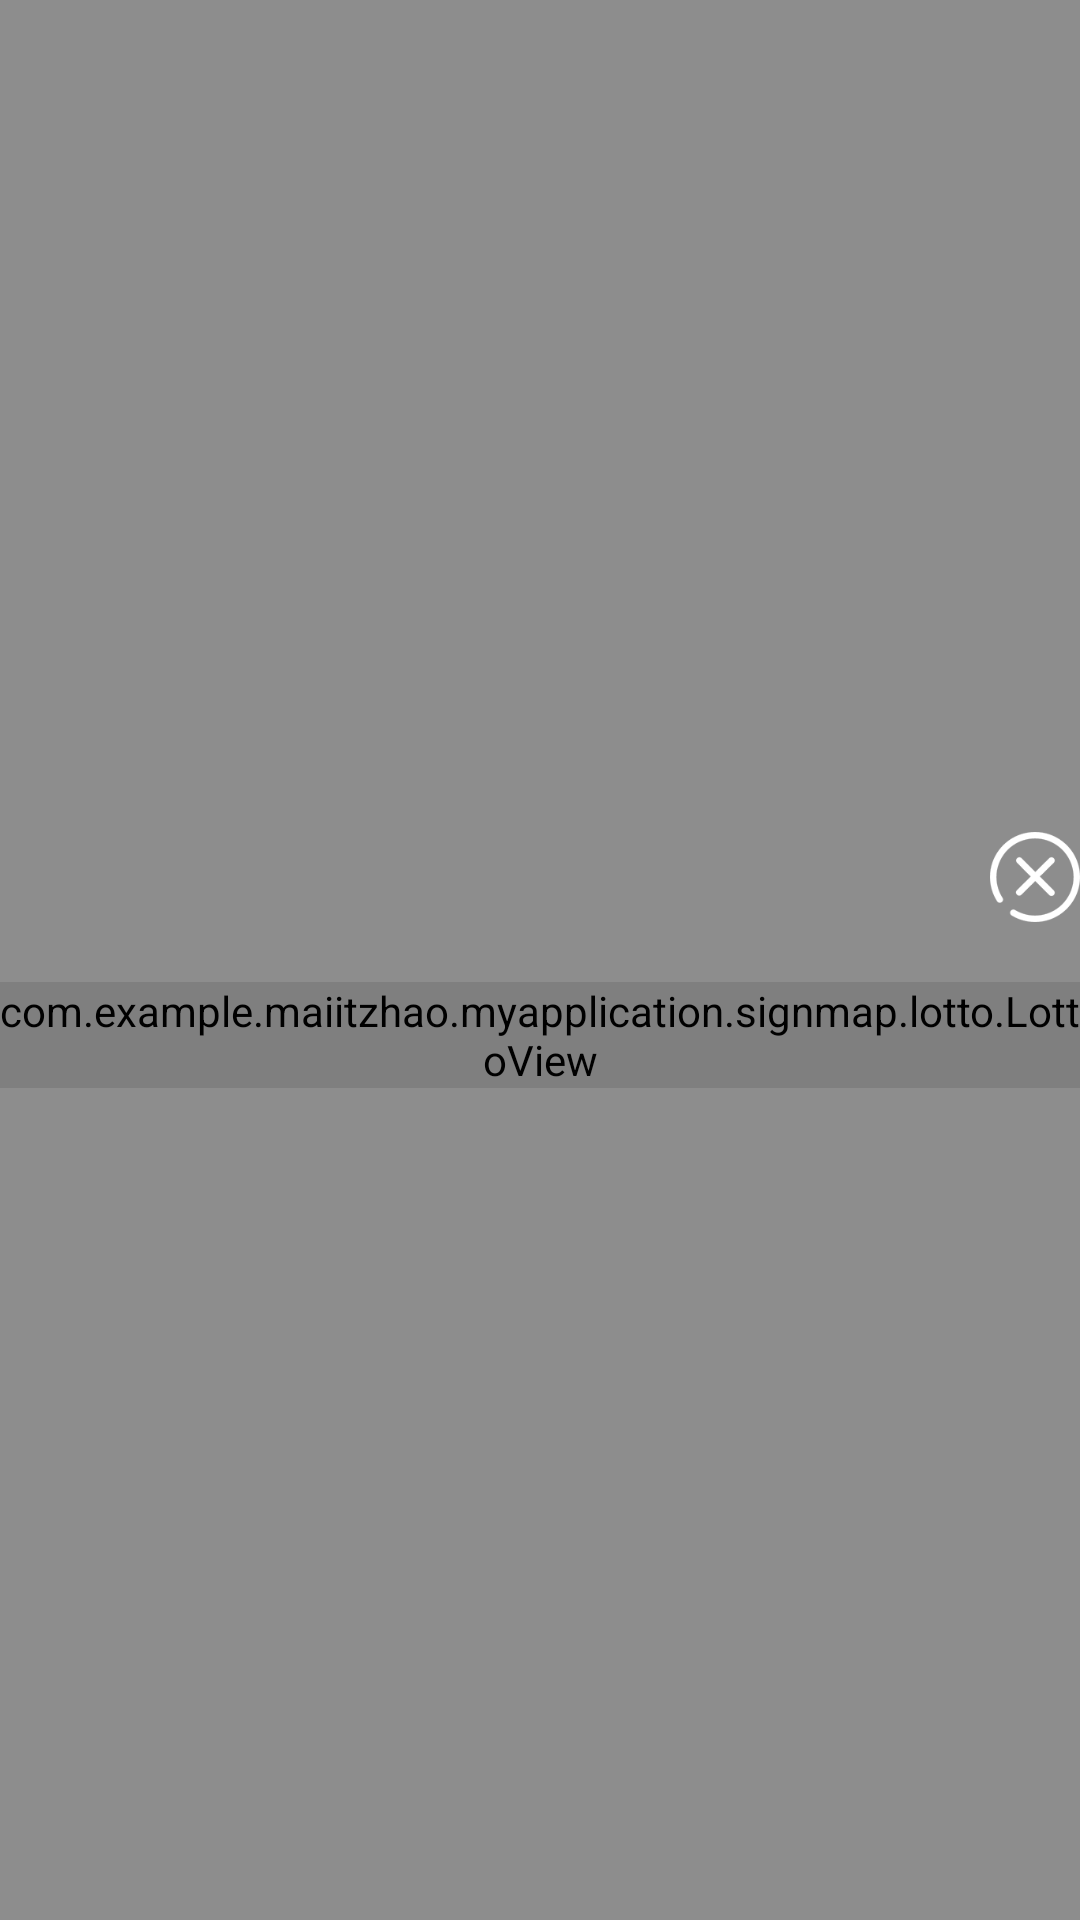

Point at icon controls on the screen. Image size 1080 x 1920, points as [x,y].
lotto close: [1035,877]
